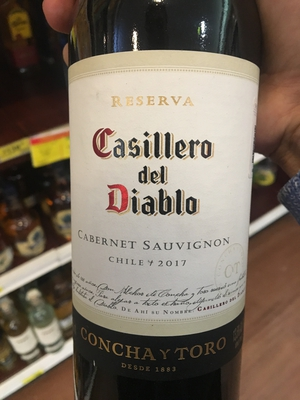casillero del diablo cabernet sauvignon: (63, 9, 264, 400)
